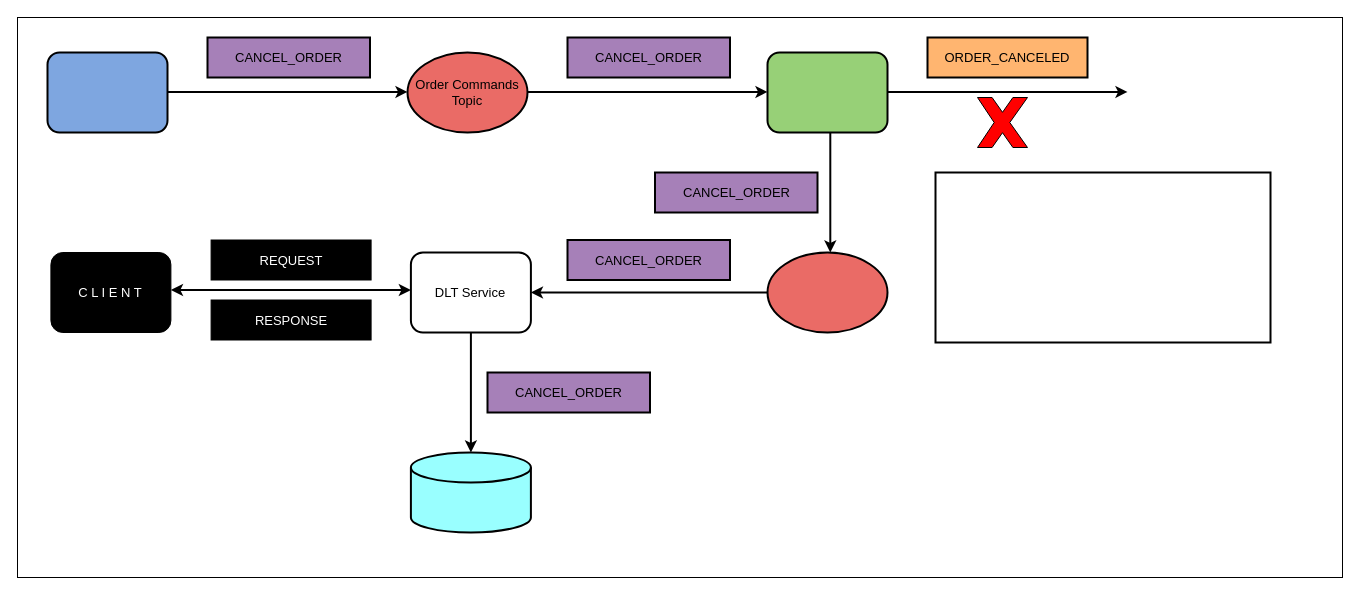
Some shapes in this 1360 by 595 pixel diagram are drawn without their labels. The centre of each missing label's shape, as x and y in pixels:
Canceling Order Failure: the point at 1102,257
Database: the point at 470,492
Orchestrator Service: the point at 107,92
Order Commands Topic DLT: the point at 827,292
Order Service: the point at 827,92
